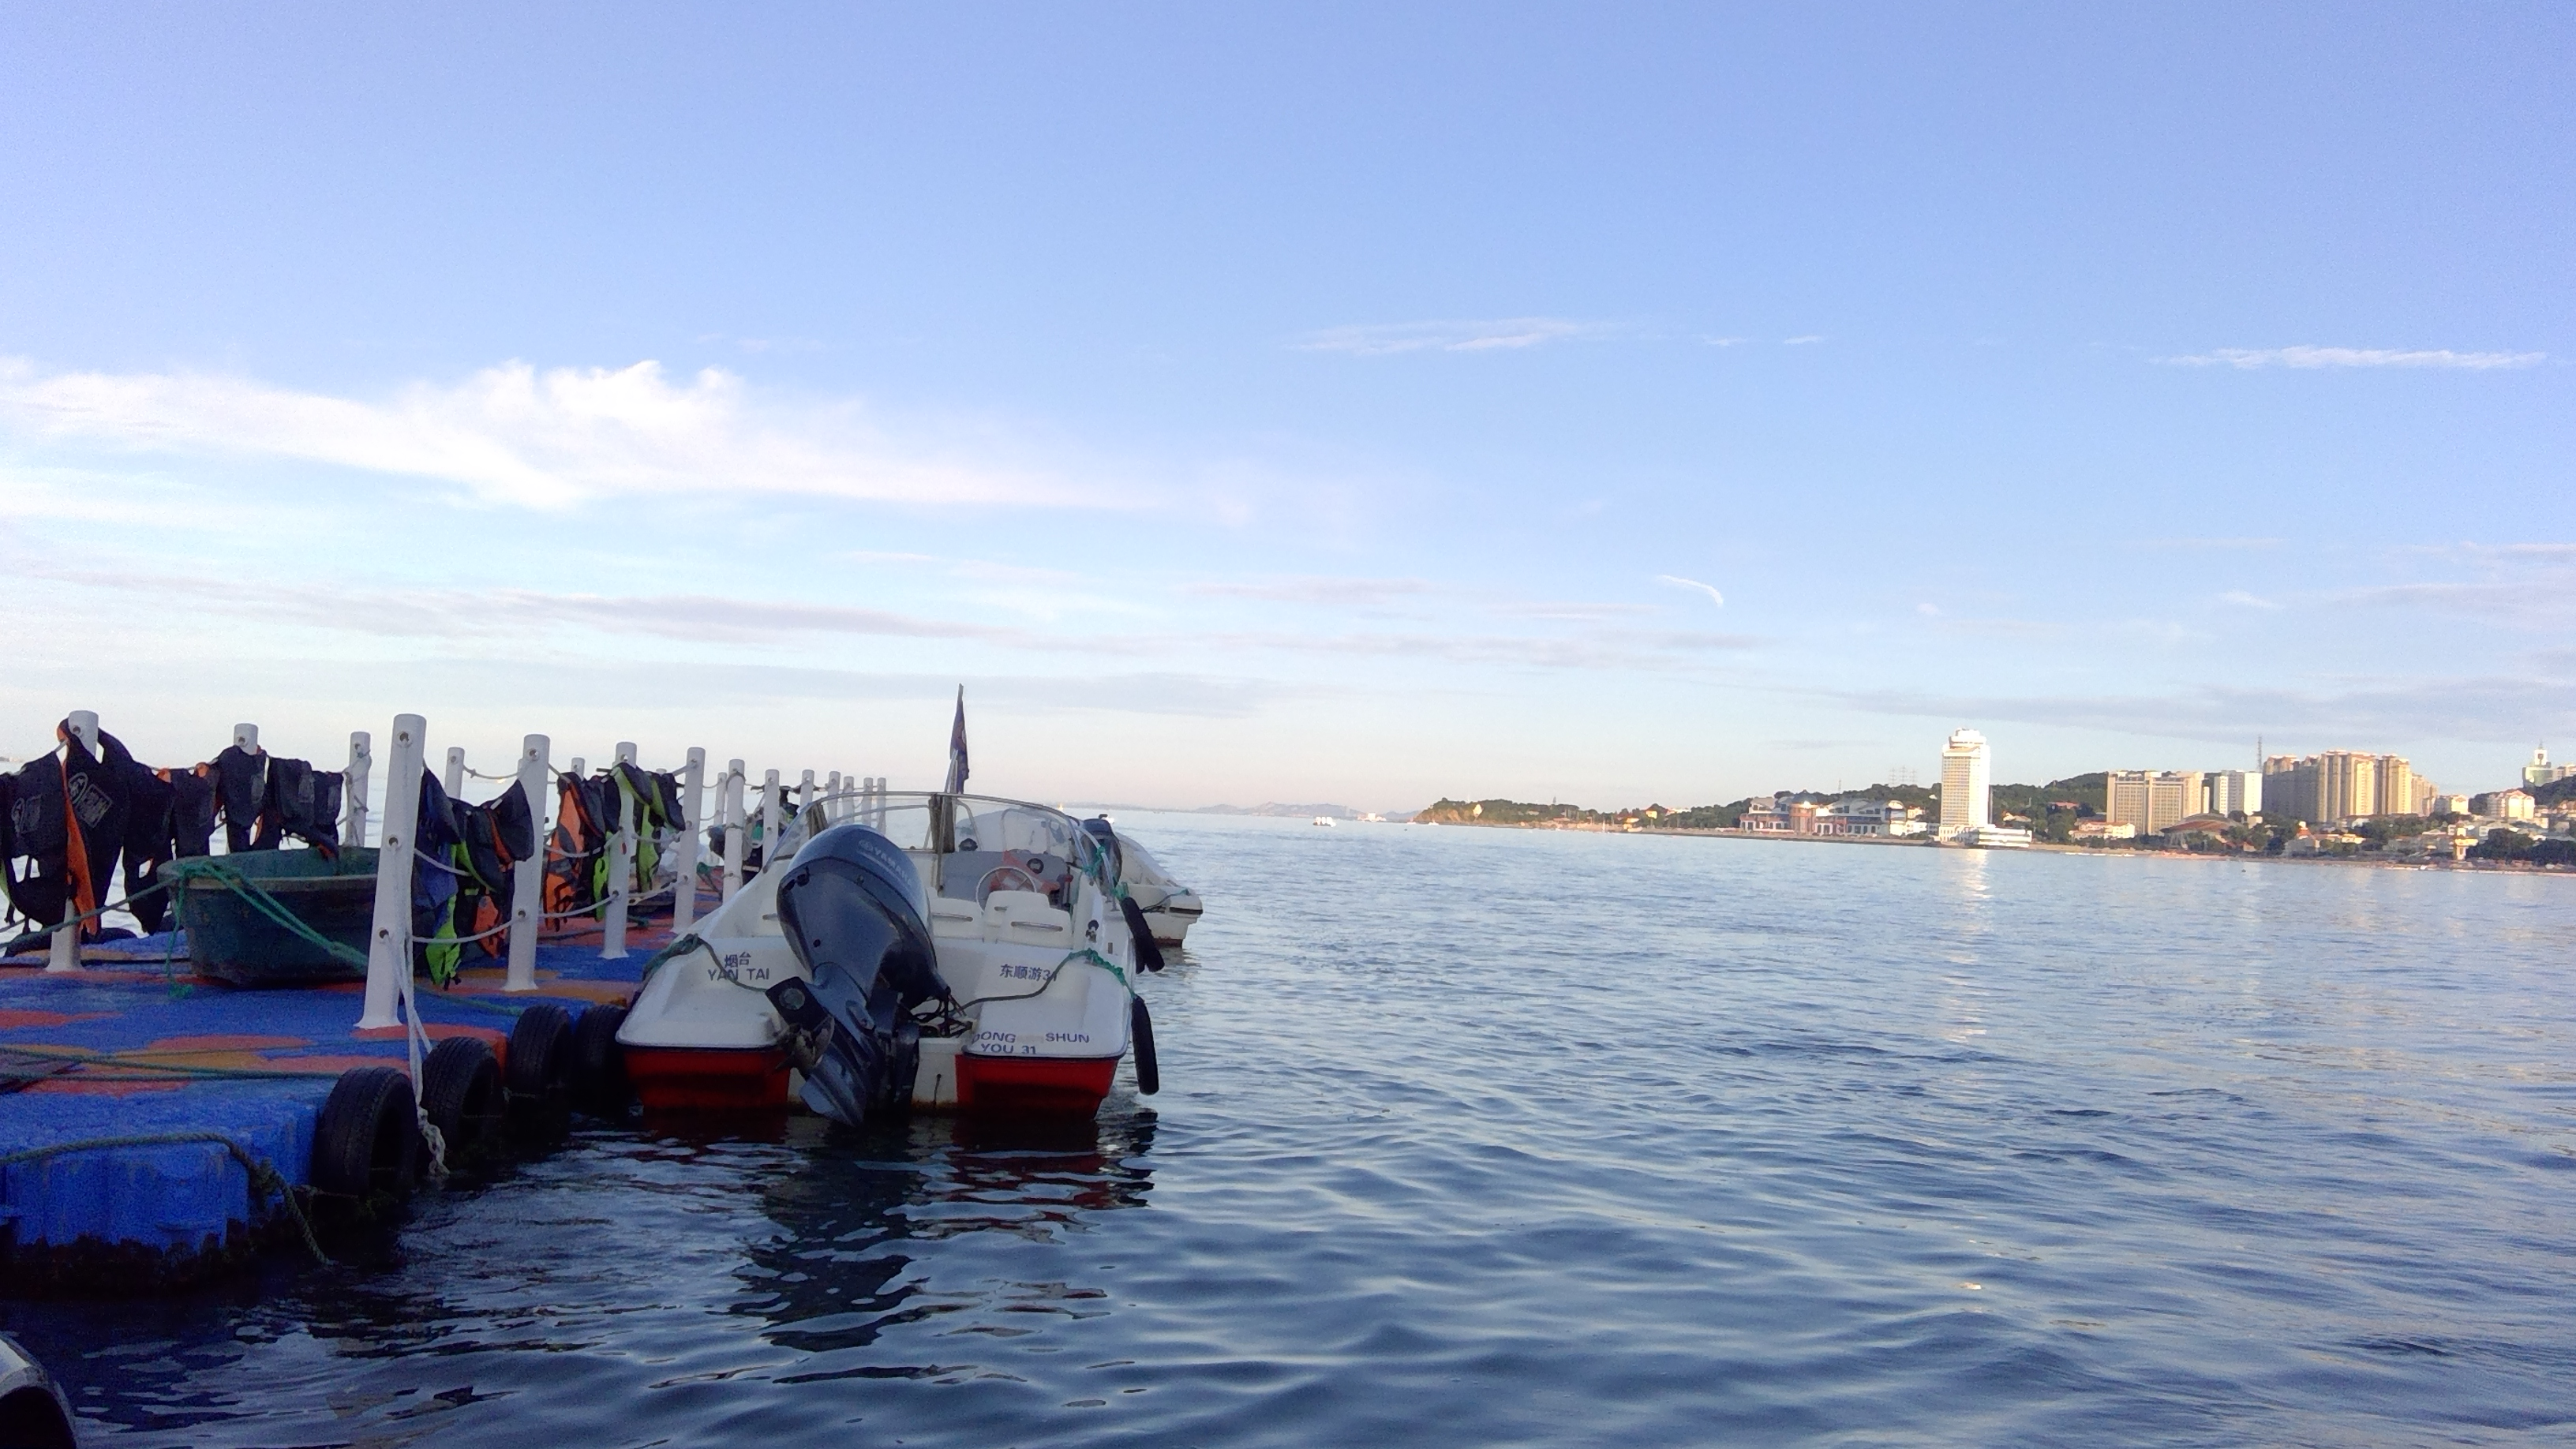boat: (603, 697, 1171, 1150)
platform: (5, 563, 901, 1329)
